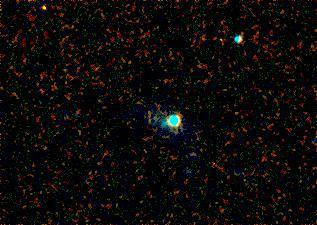star: (27, 0, 57, 23)
